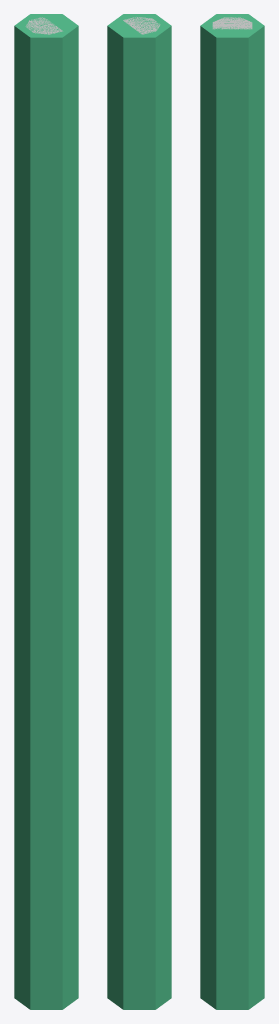
Rendered from ruinedpier_01_c.dae.
The picture shows the model from 3 angles, left to right: view 1: azimuth 30°, elevation 25°; view 2: azimuth 210°, elevation 25°; view 3: azimuth 270°, elevation 25°; orthographic projection.
Visible parts, largest first — view 1: Colmesh-1, ind_bld_a500; view 2: Colmesh-1, ind_bld_a500; view 3: Colmesh-1, ind_bld_a500.
Part boxes in pixels (<box>): Colmesh-1: <box>14,14,78,1009</box>; ind_bld_a500: <box>25,17,62,34</box>; Colmesh-1: <box>107,14,171,1009</box>; ind_bld_a500: <box>123,17,160,34</box>; Colmesh-1: <box>200,14,264,1009</box>; ind_bld_a500: <box>212,17,252,29</box>.
Size of the model in its own units: 0.5196 by 0.6 by 10.
